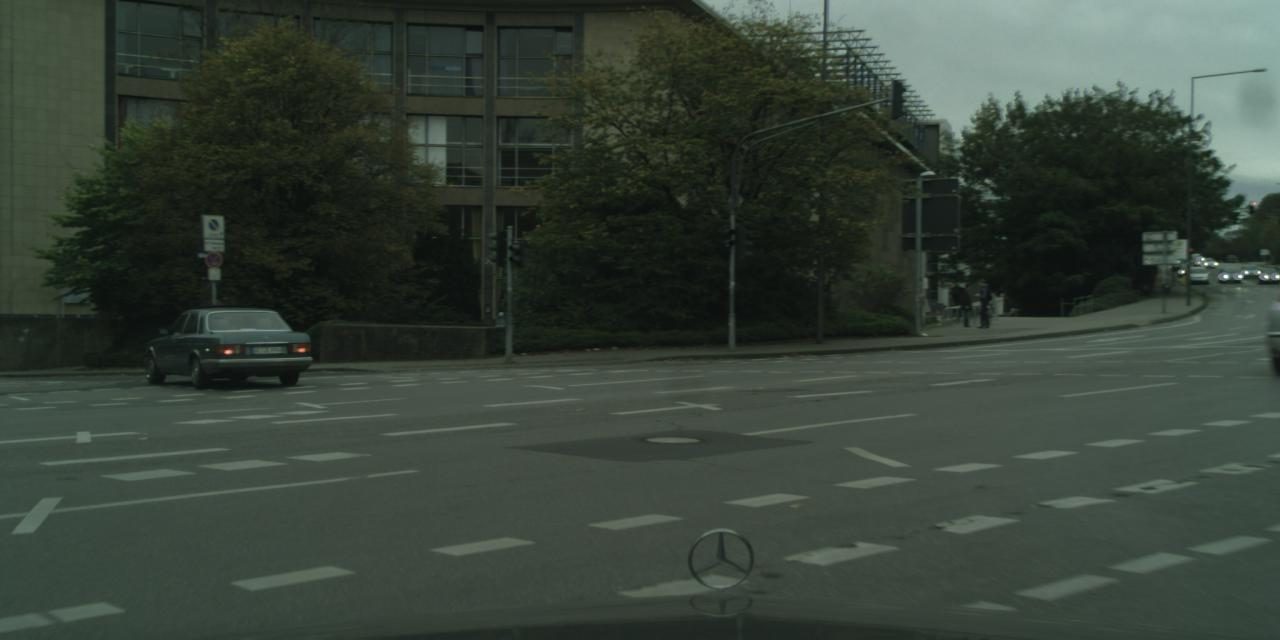ped: (972, 278, 992, 328), (958, 282, 976, 327), (949, 283, 962, 315)
